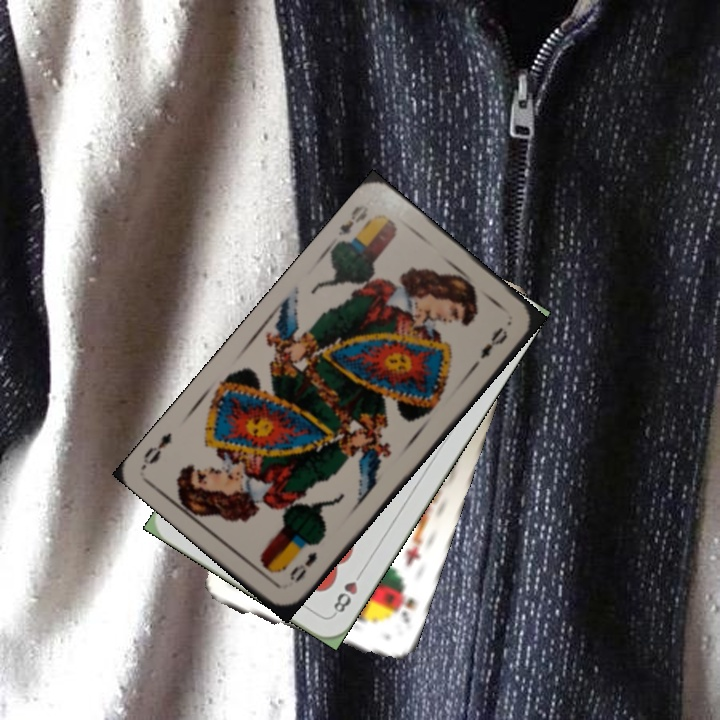EO: (334, 200, 372, 239), (285, 547, 320, 585)
H8: (329, 565, 366, 618)
SK: (391, 579, 420, 627)
